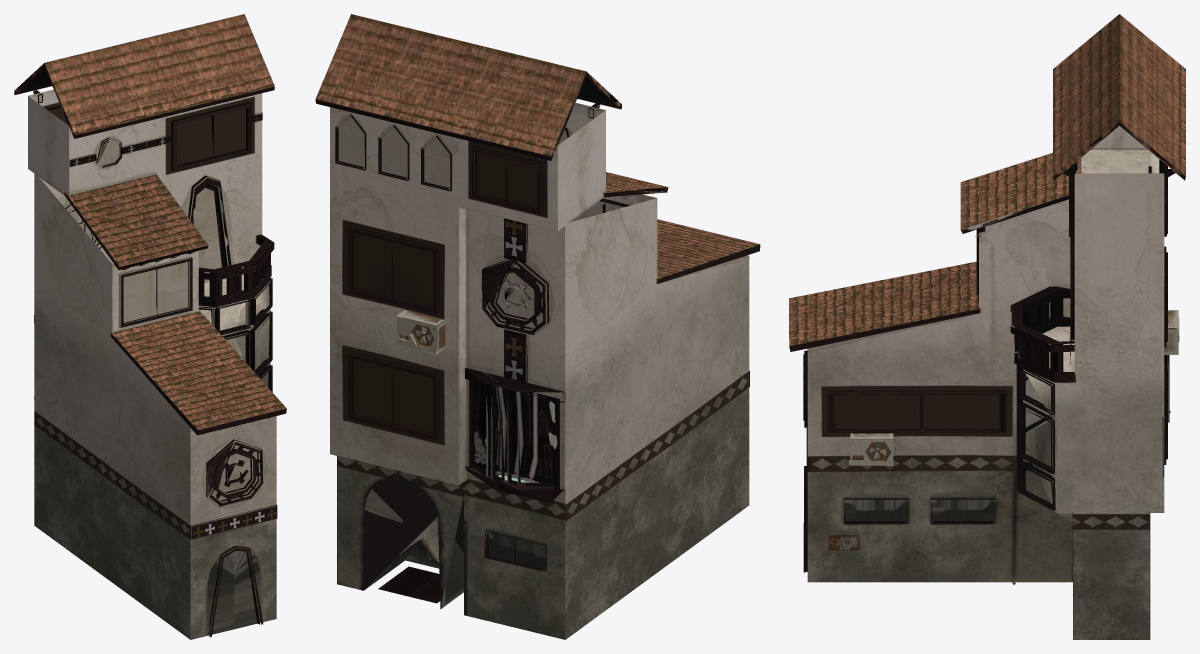
Rendered from heritage.glb.
3 renders of one model, left to right at view 1: azimuth 30°, elevation 25°; view 2: azimuth 150°, elevation 25°; view 3: azimuth 270°, elevation 25°, orthographic. The views are drawn at different scales.
Parts seen in each view (by area): view 1: remeshed; view 2: remeshed; view 3: remeshed.
Boxes of the visible parts, x1=… form: remeshed: x1=14, y1=14, x2=286, y2=639; remeshed: x1=315, y1=14, x2=760, y2=639; remeshed: x1=789, y1=14, x2=1185, y2=639.
Bounding box in the file's own units: 5.92 × 13.4 × 9.27.
2 materials, 2 textured.
